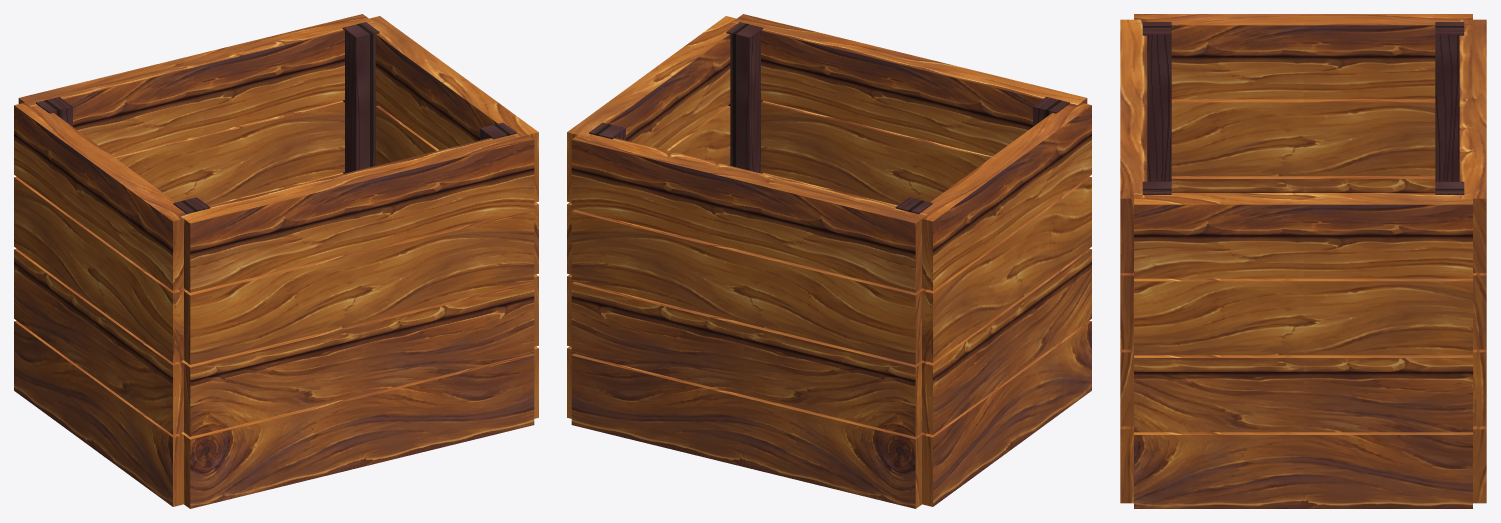
The model's file is Crate_Open.fbx.
3 views of the same model, side by side, from view 1: azimuth 30°, elevation 25°; view 2: azimuth 150°, elevation 25°; view 3: azimuth 270°, elevation 25° (orthographic). The views are drawn at different scales.
Visible parts, largest first — view 1: Crate long side board.014, Crate long side board.008, Crate long side board.010, Crate long side board.012, Crate long side board.015, Crate short side board.014, Crate long side board.013, Crate short side board.012, Crate short side board.010, Crate short side board.008, Crate short side board.015, Crate inside corner post.007 (+1 smaller); view 2: Crate long side board.015, Crate long side board.009, Crate long side board.011, Crate long side board.013, Crate long side board.014, Crate short side board.014, Crate long side board.012, Crate short side board.012, Crate short side board.008, Crate short side board.010, Crate short side board.015, Crate inside corner post.006 (+1 smaller); view 3: Crate short side board.015, Crate short side board.011, Crate short side board.013, Crate short side board.009, Crate short side board.014, Crate short side board.012, Crate long side board.014, Crate long side board.015, Crate short side board.010, Crate inside corner post.004, Crate inside corner post.005, Crate long side board.008 (+7 smaller).
Part boxes in pixels (x1,y1,x2,y2): Crate long side board.014: [178, 132, 534, 292]; Crate long side board.008: [181, 353, 534, 508]; Crate long side board.010: [182, 281, 534, 436]; Crate long side board.012: [182, 209, 534, 364]; Crate long side board.015: [18, 14, 374, 156]; Crate short side board.014: [14, 102, 192, 290]; Crate long side board.013: [113, 100, 344, 205]; Crate short side board.012: [14, 176, 185, 362]; Crate short side board.010: [14, 248, 185, 434]; Crate short side board.008: [14, 320, 183, 506]; Crate short side board.015: [359, 16, 538, 202]; Crate inside corner post.007: [342, 22, 379, 173]; Crate long side board.015: [571, 131, 927, 292]; Crate long side board.009: [571, 353, 924, 508]; Crate long side board.011: [571, 281, 923, 436]; Crate long side board.013: [571, 209, 923, 364]; Crate long side board.014: [731, 14, 1087, 156]; Crate short side board.014: [913, 100, 1091, 290]; Crate long side board.012: [761, 100, 992, 205]; Crate short side board.012: [920, 176, 1091, 362]; Crate short side board.008: [922, 320, 1091, 506]; Crate short side board.010: [921, 248, 1091, 434]; Crate short side board.015: [567, 16, 746, 202]; Crate inside corner post.006: [726, 22, 763, 173]; Crate short side board.015: [1134, 193, 1472, 278]; Crate short side board.011: [1134, 355, 1472, 432]; Crate short side board.013: [1134, 278, 1472, 355]; Crate short side board.009: [1134, 432, 1472, 508]; Crate short side board.014: [1134, 14, 1472, 99]; Crate short side board.012: [1171, 99, 1435, 176]; Crate long side board.014: [1120, 19, 1147, 272]; Crate long side board.015: [1459, 19, 1486, 272]; Crate short side board.010: [1171, 176, 1435, 192]; Crate inside corner post.004: [1142, 22, 1171, 181]; Crate inside corner post.005: [1435, 22, 1464, 181]; Crate long side board.008: [1120, 426, 1133, 503].
Bounding box in the file's own units: 117 × 88 × 95.
